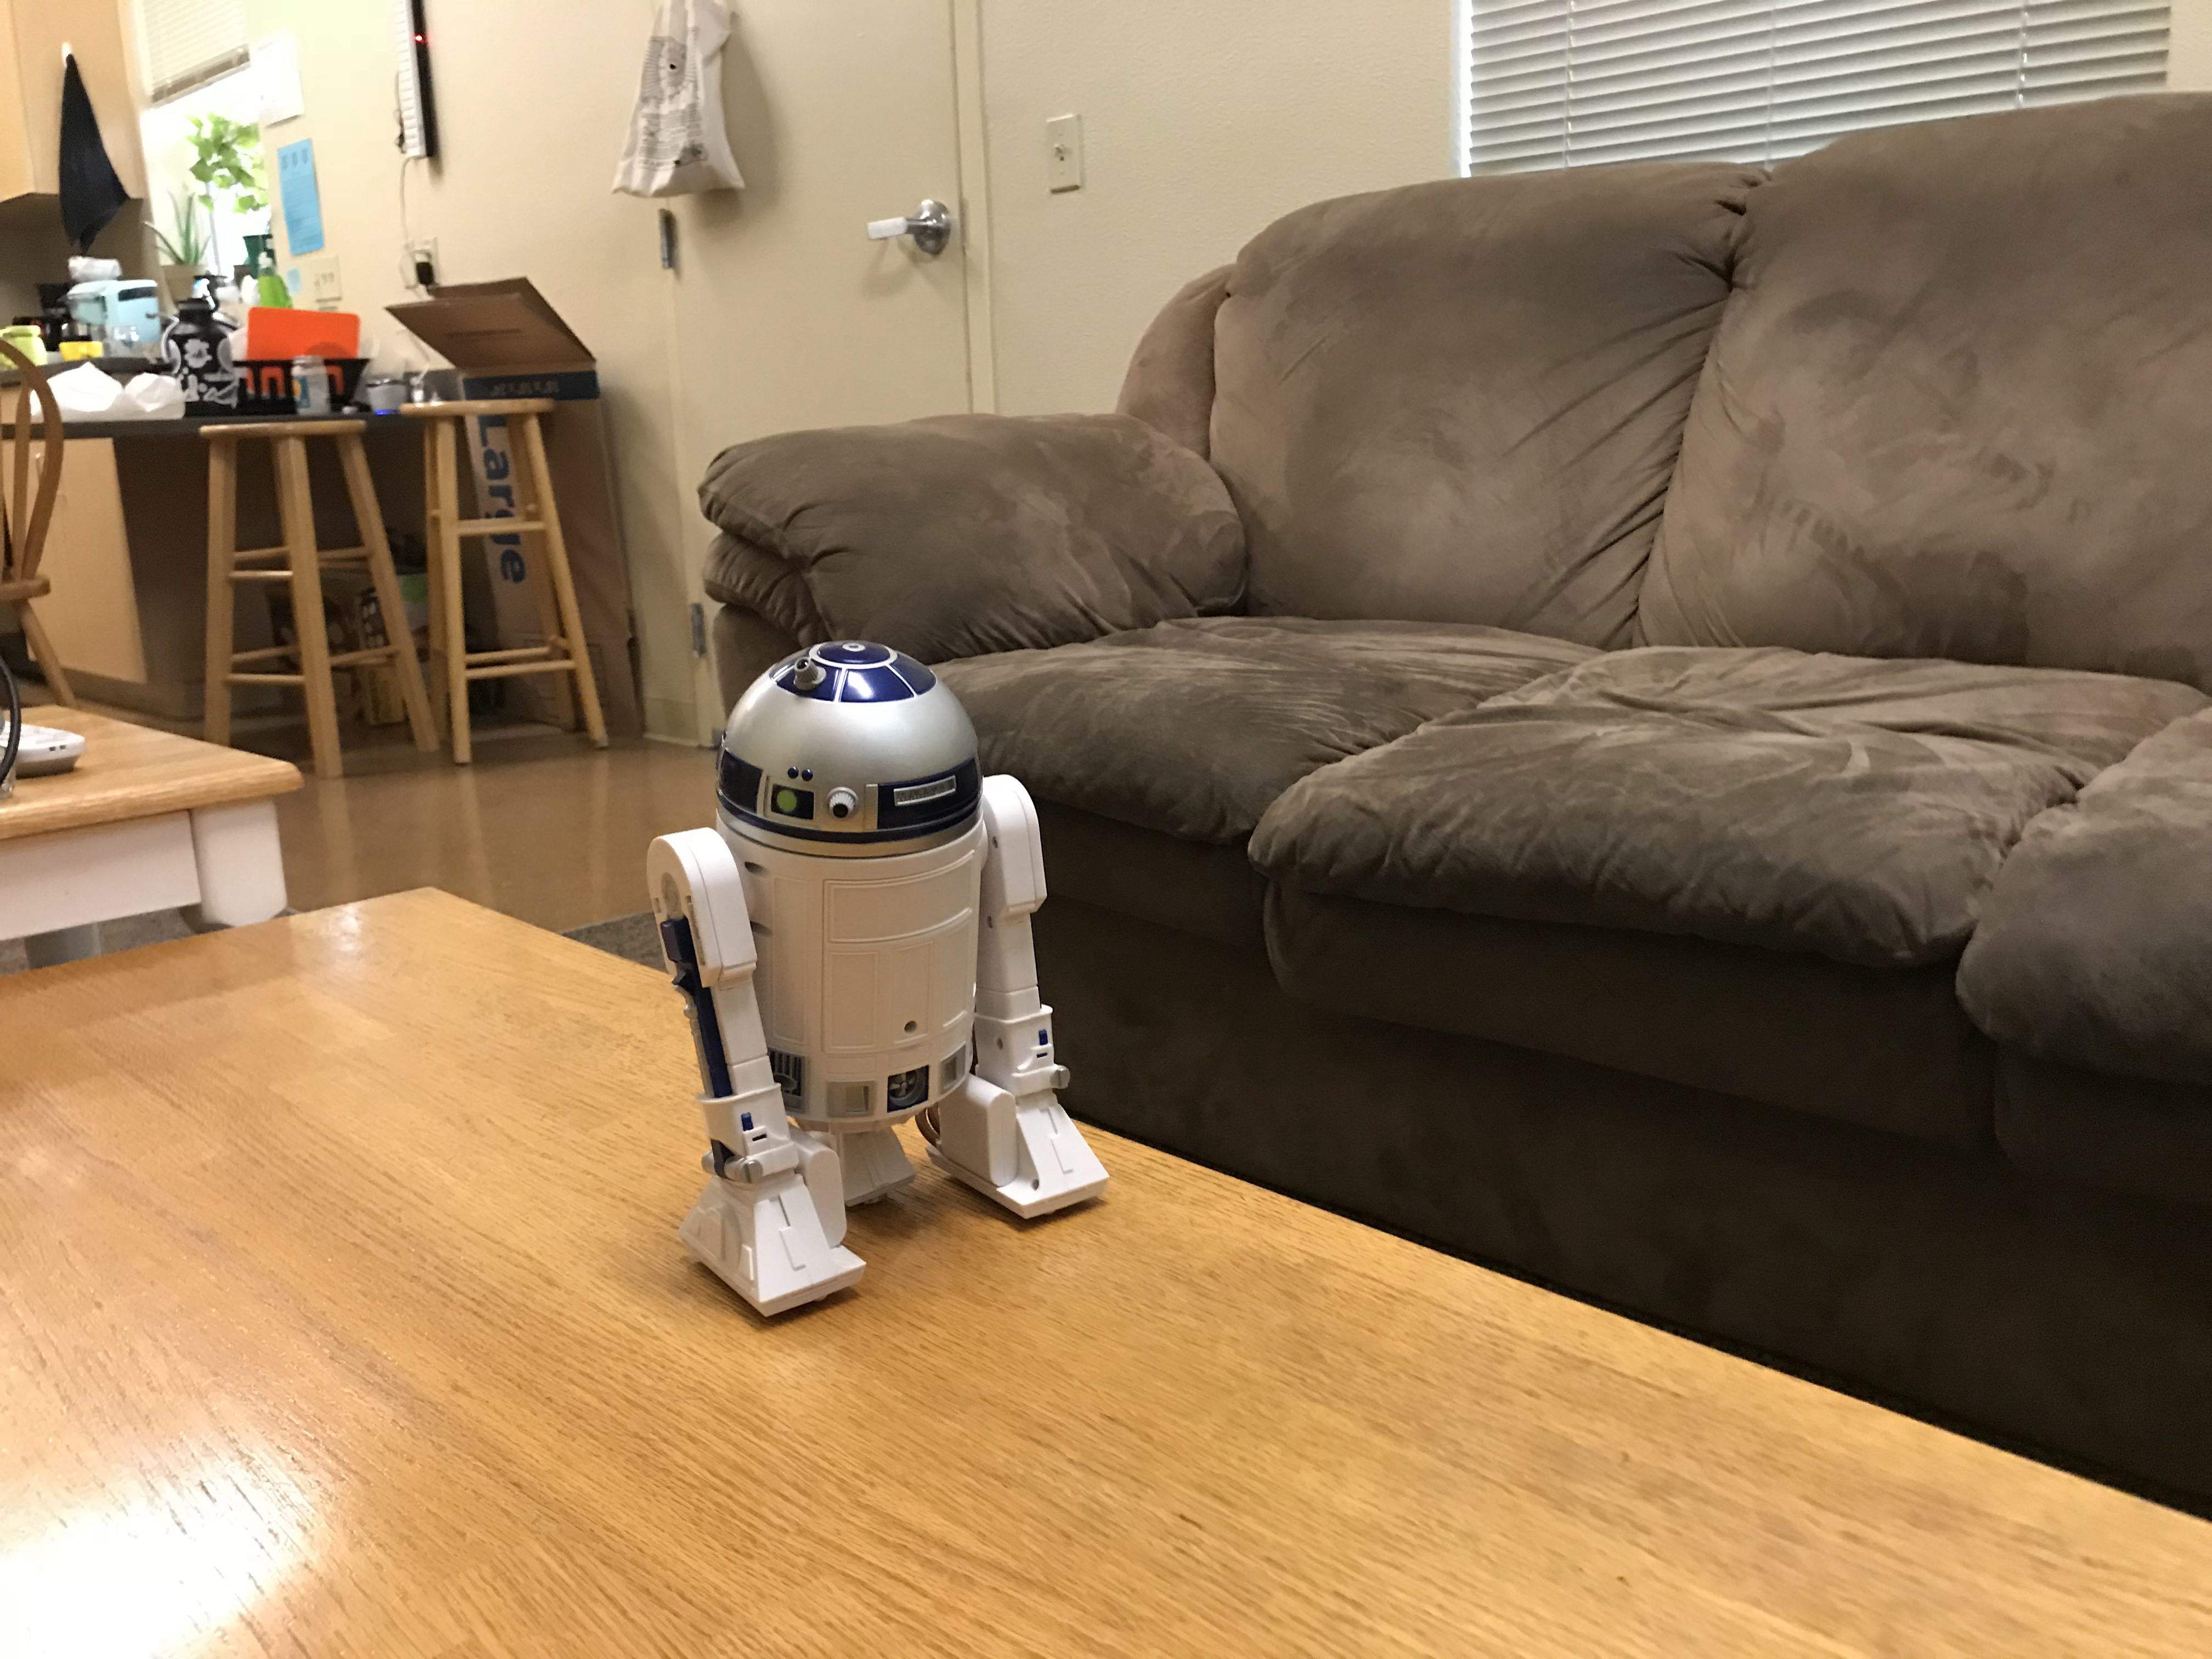r2d2: (648, 640, 1109, 1317)
